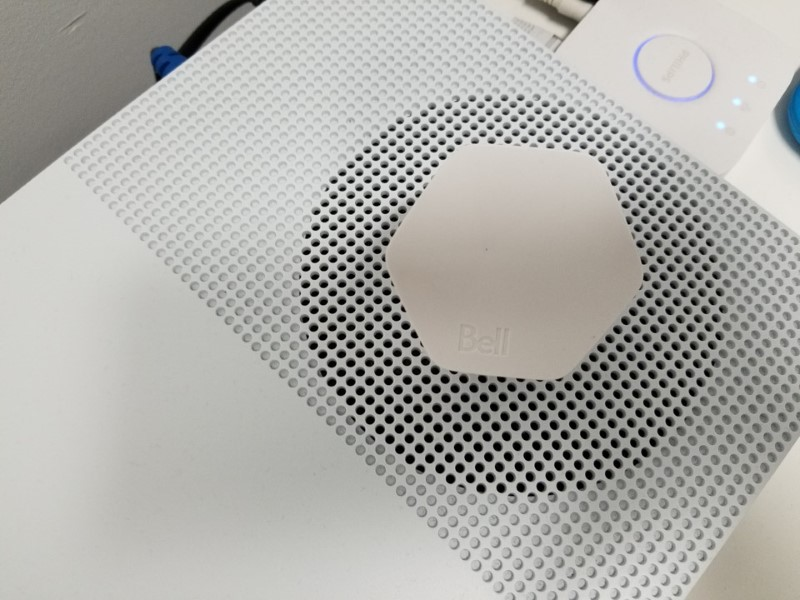pod: (382, 144, 658, 385)
